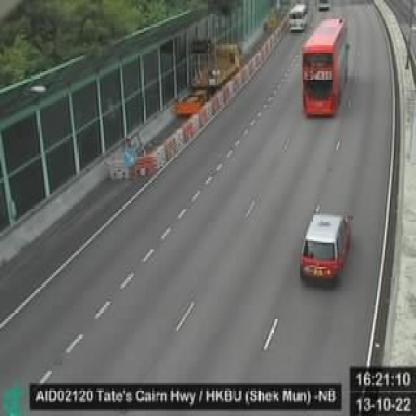Bus: (303, 19, 349, 118), (289, 2, 310, 34)
Car: (300, 214, 351, 286)
